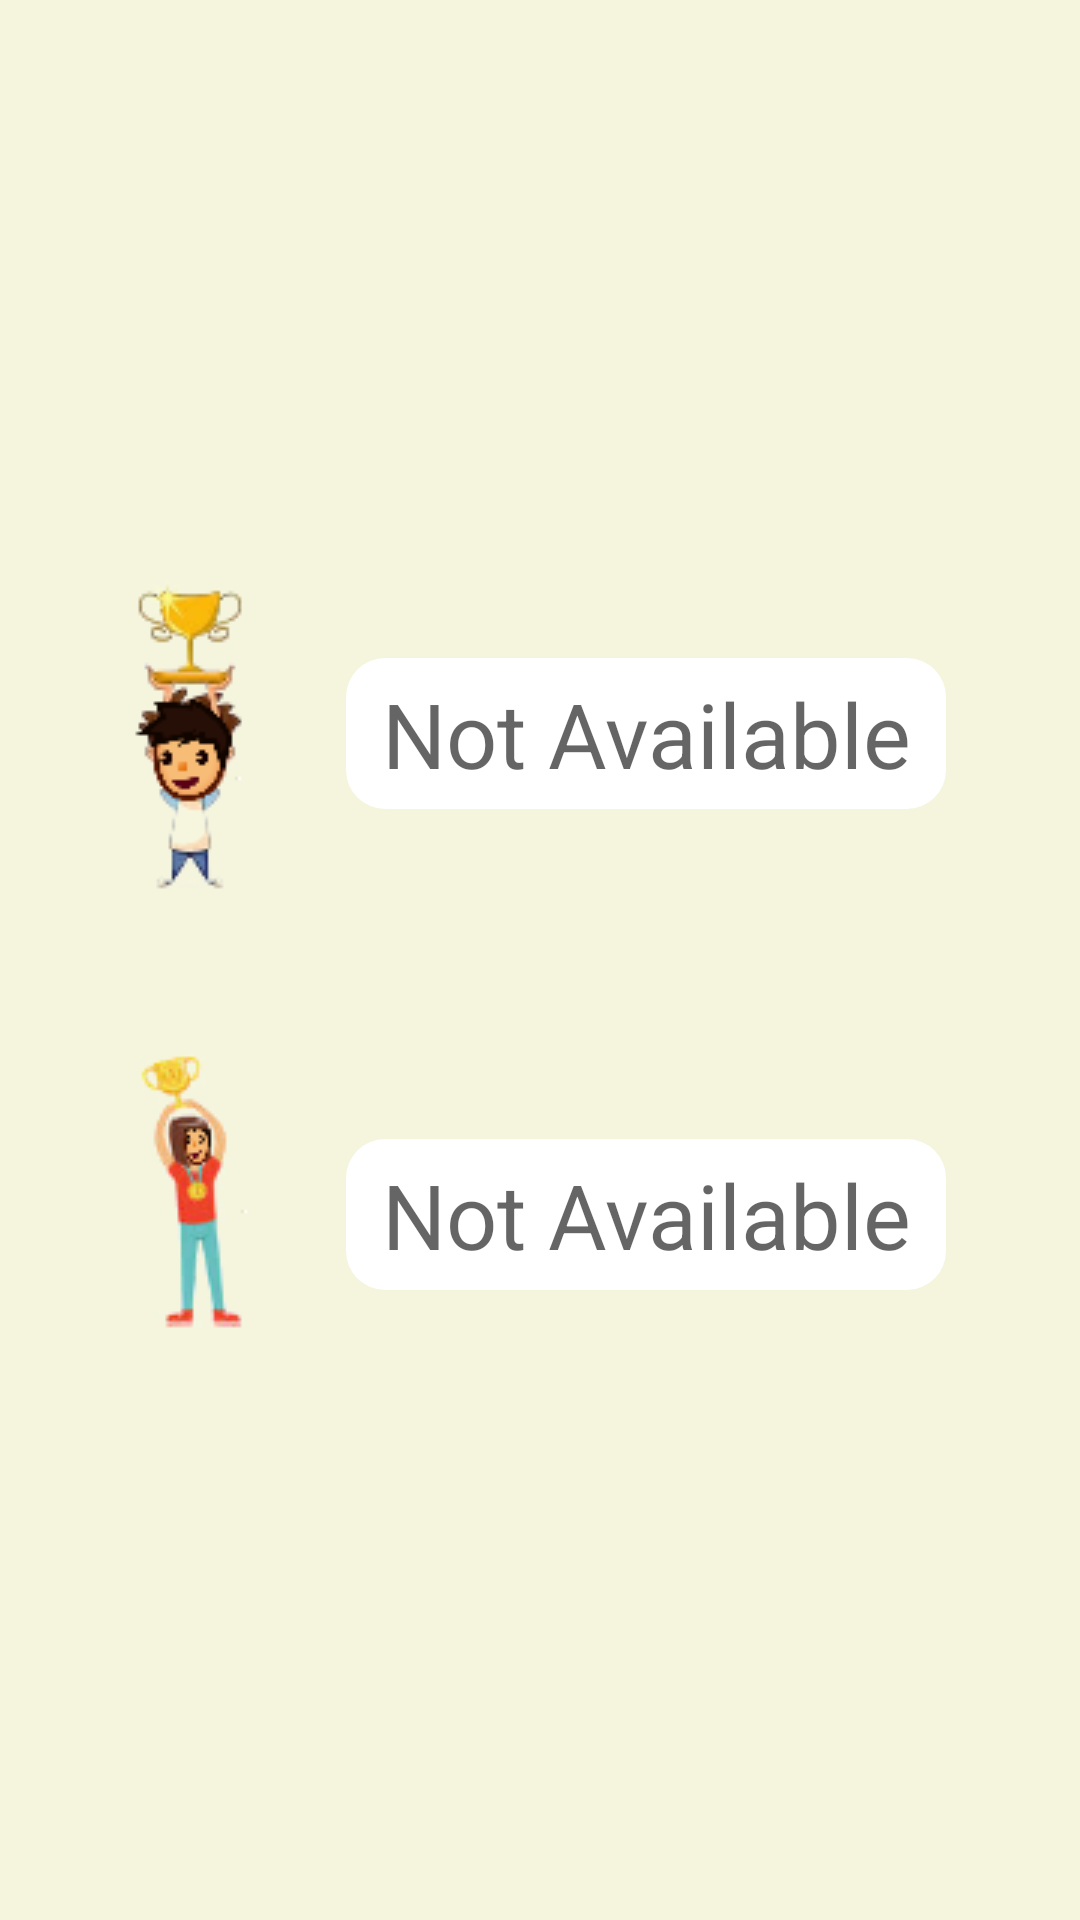

Icon bounding boxes for this 1080w x 1920h phone screenshot, format (x1, y1, x2, y2):
boyscha: (135, 586, 242, 888)
girlscha: (141, 1056, 246, 1328)
